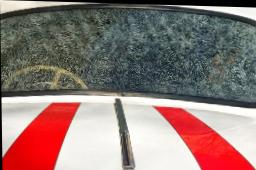Windshield: (0, 3, 256, 101)
